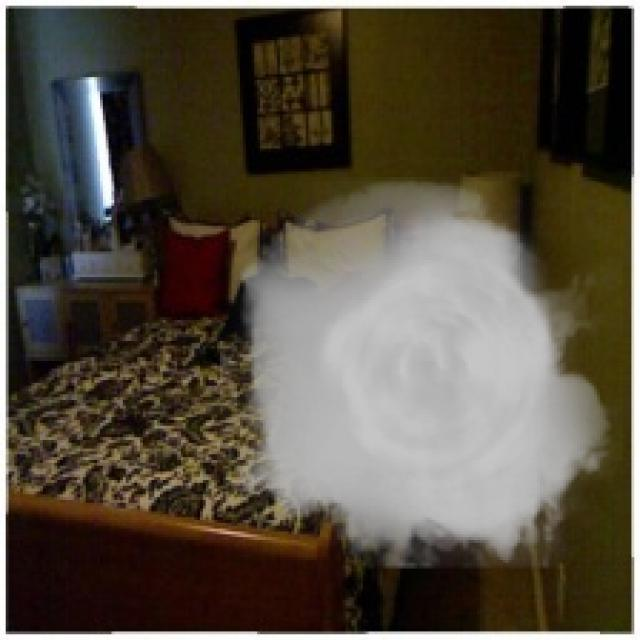Smoke: (220, 177, 623, 569)
